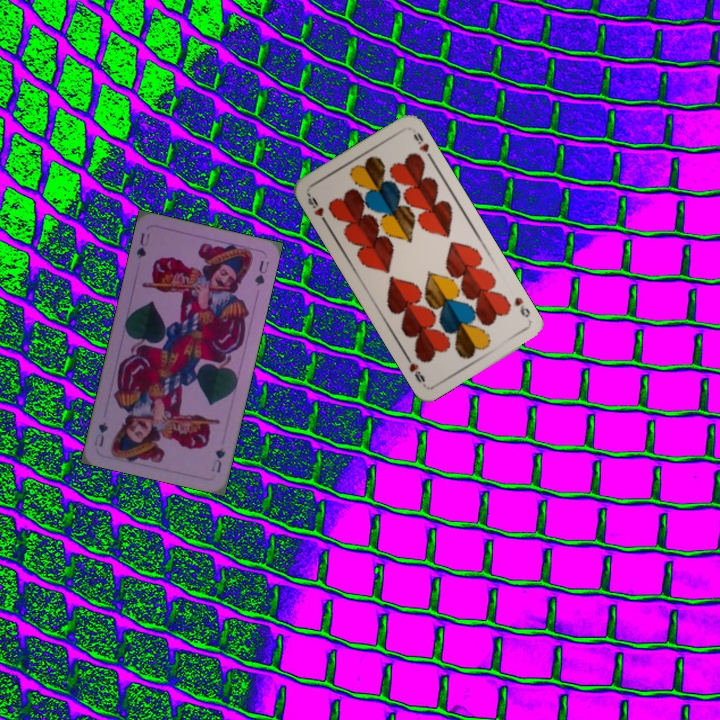GU: (207, 443, 228, 475), (132, 229, 152, 262)
H9: (303, 190, 330, 227), (510, 293, 533, 320)
